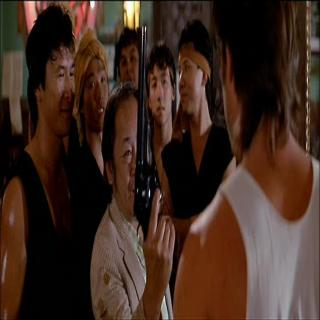gun: (130, 15, 170, 263)
